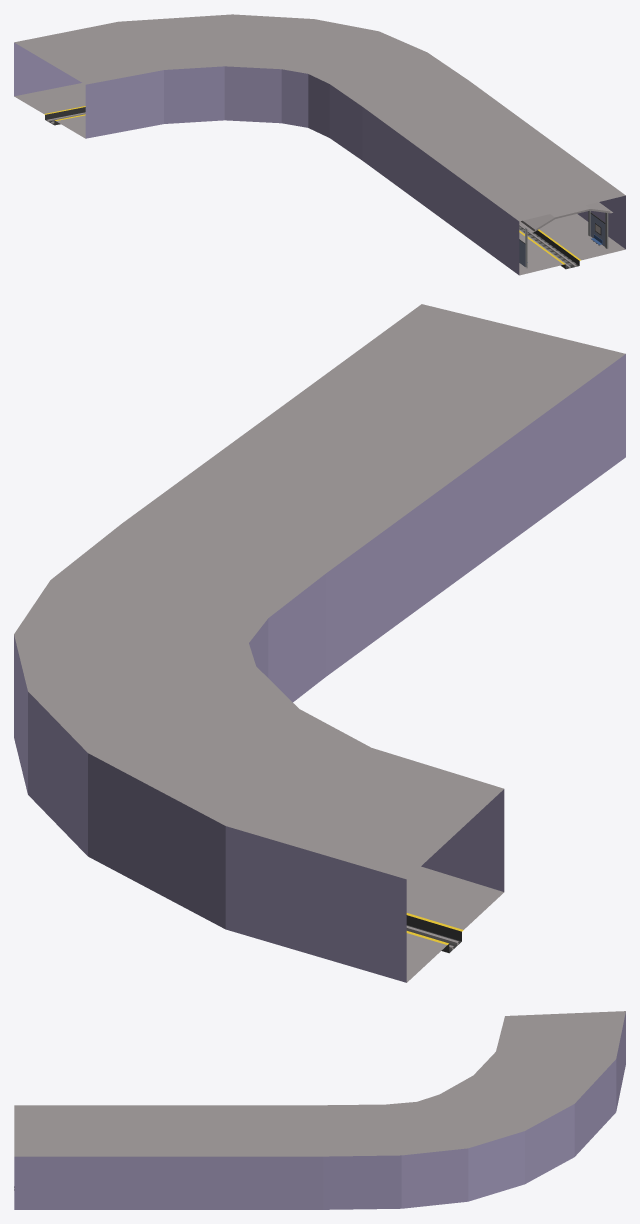
The model's file is Subway1.fbx.
3 renders of one model, top to bottom at view 1: azimuth 30°, elevation 25°; view 2: azimuth 150°, elevation 25°; view 3: azimuth 270°, elevation 25°, orthographic. The views are drawn at different scales.
Parts seen in each view (by area): view 1: Subway; view 2: Subway; view 3: Subway.
Boxes of the visible parts, bbox=[...] form: Subway: bbox=[14, 14, 625, 275]; Subway: bbox=[14, 304, 625, 982]; Subway: bbox=[14, 1011, 625, 1209].
Size of the model in its own units: 6227 by 1166 by 11069.
